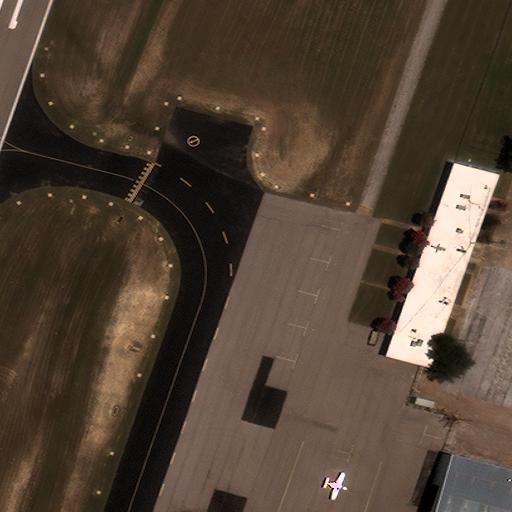Small Civil Transport: (324, 473, 346, 499)
